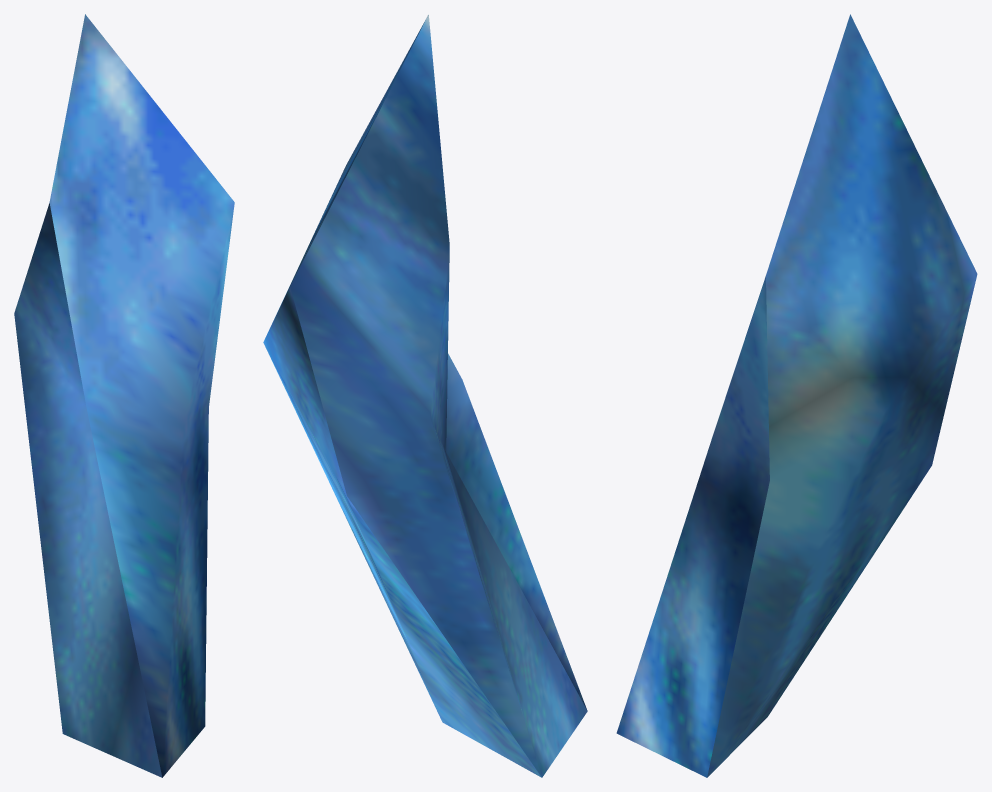
File: hrff.hrc.gltf
3 renders of one model, left to right at view 1: azimuth 30°, elevation 25°; view 2: azimuth 150°, elevation 25°; view 3: azimuth 270°, elevation 25°, orthographic. The views are drawn at different scales.
Visible parts, largest first — view 1: hrffBone0_null; view 2: hrffBone0_null; view 3: hrffBone0_null.
Boxes of the visible parts, bbox=[...] form: hrffBone0_null: bbox=[14, 14, 234, 777]; hrffBone0_null: bbox=[263, 14, 587, 777]; hrffBone0_null: bbox=[616, 14, 977, 777].
Bounding box in the file's own units: 9.9 × 33.91 × 15.08.
1 material, 1 textured.
